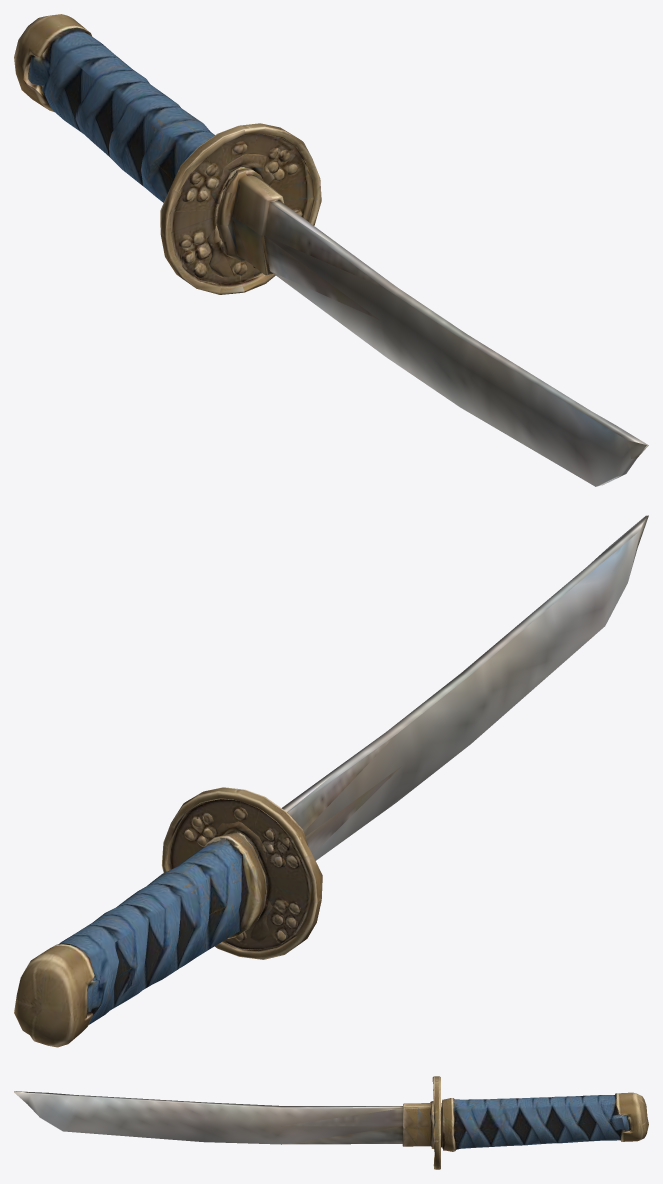
The model's file is katana.glb.
The picture shows the model from 3 angles, top to bottom: view 1: azimuth 30°, elevation 25°; view 2: azimuth 150°, elevation 25°; view 3: azimuth 270°, elevation 25°; orthographic projection. The views are drawn at different scales.
Parts seen in each view (by area): view 1: w_katana; view 2: w_katana; view 3: w_katana.
Part boxes in pixels (x1,y1,x2,y2): w_katana: (14,14,648,486); w_katana: (14,515,648,1047); w_katana: (14,1076,648,1169).
Size of the model in its own units: 0.1254 by 0.1258 by 0.85.
Materials: 1 (1 with a texture image).
